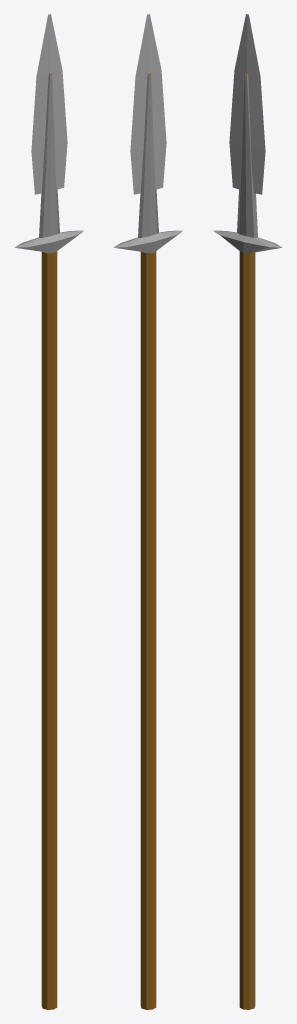
The model's file is roman_weapon_spear.fbx.
The picture shows the model from 3 angles, left to right: view 1: azimuth 30°, elevation 25°; view 2: azimuth 210°, elevation 25°; view 3: azimuth 330°, elevation 25°; orthographic projection.
Parts seen in each view (by area): view 1: Cylinder.004; view 2: Cylinder.004; view 3: Cylinder.004.
Part boxes in pixels (<box>): Cylinder.004: <box>15,14,83,1009</box>; Cylinder.004: <box>114,14,182,1009</box>; Cylinder.004: <box>213,14,281,1009</box>.
Bounding box in the file's own units: 0.15 × 2.02 × 0.03.
